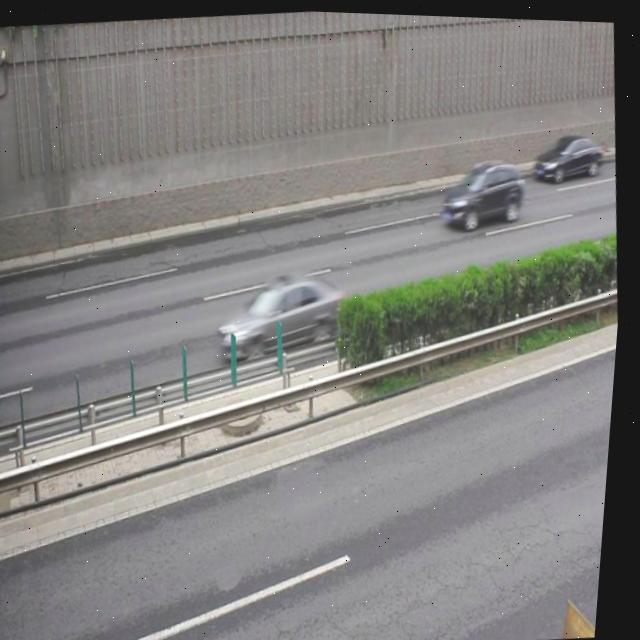car: (216, 264, 355, 360), (439, 151, 528, 229), (530, 126, 605, 177)
